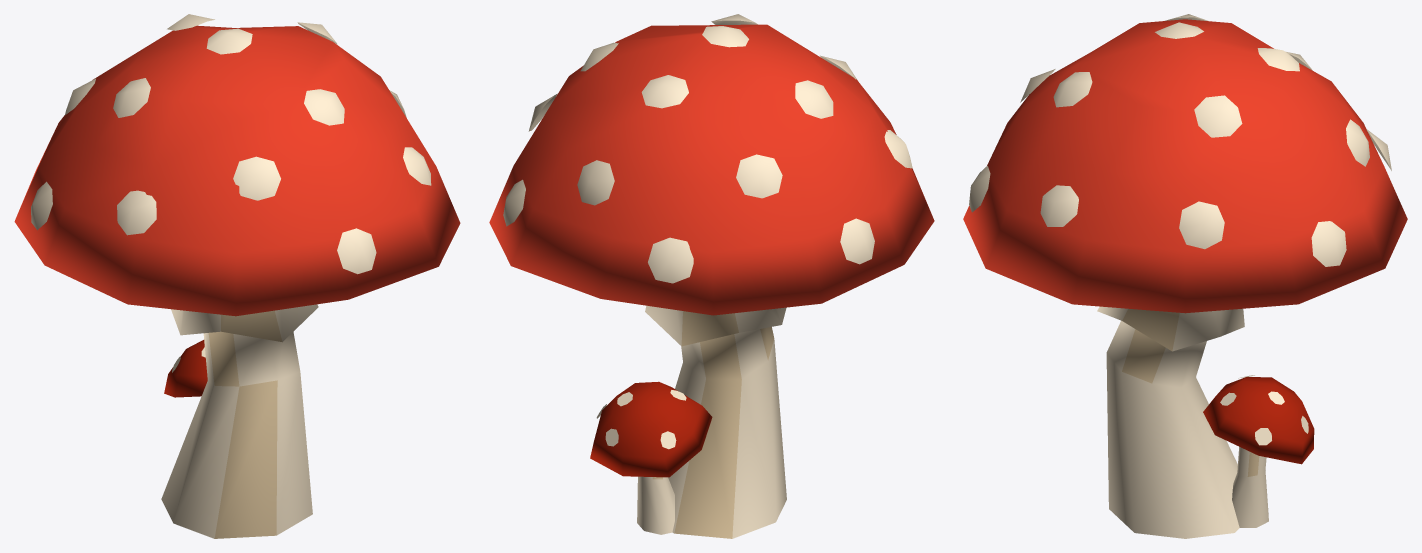
The model's file is Shroom.glb.
3 views of the same model, side by side, from view 1: azimuth 30°, elevation 25°; view 2: azimuth 150°, elevation 25°; view 3: azimuth 270°, elevation 25° (orthographic).
Parts seen in each view (by area): view 1: Shroom; view 2: Shroom; view 3: Shroom.
Boxes of the visible parts, <box> form: Shroom: <box>14,14,460,538</box>; Shroom: <box>489,14,934,538</box>; Shroom: <box>963,14,1407,538</box>.
Bounding box in the file's own units: 1.95 × 2.32 × 1.94.
1 material, 1 textured.
